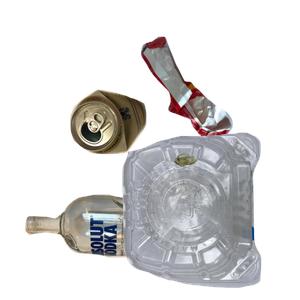glass: (22, 192, 234, 300)
metal: (67, 87, 206, 234)
plastic: (119, 130, 300, 300)
trash: (139, 34, 300, 167)
